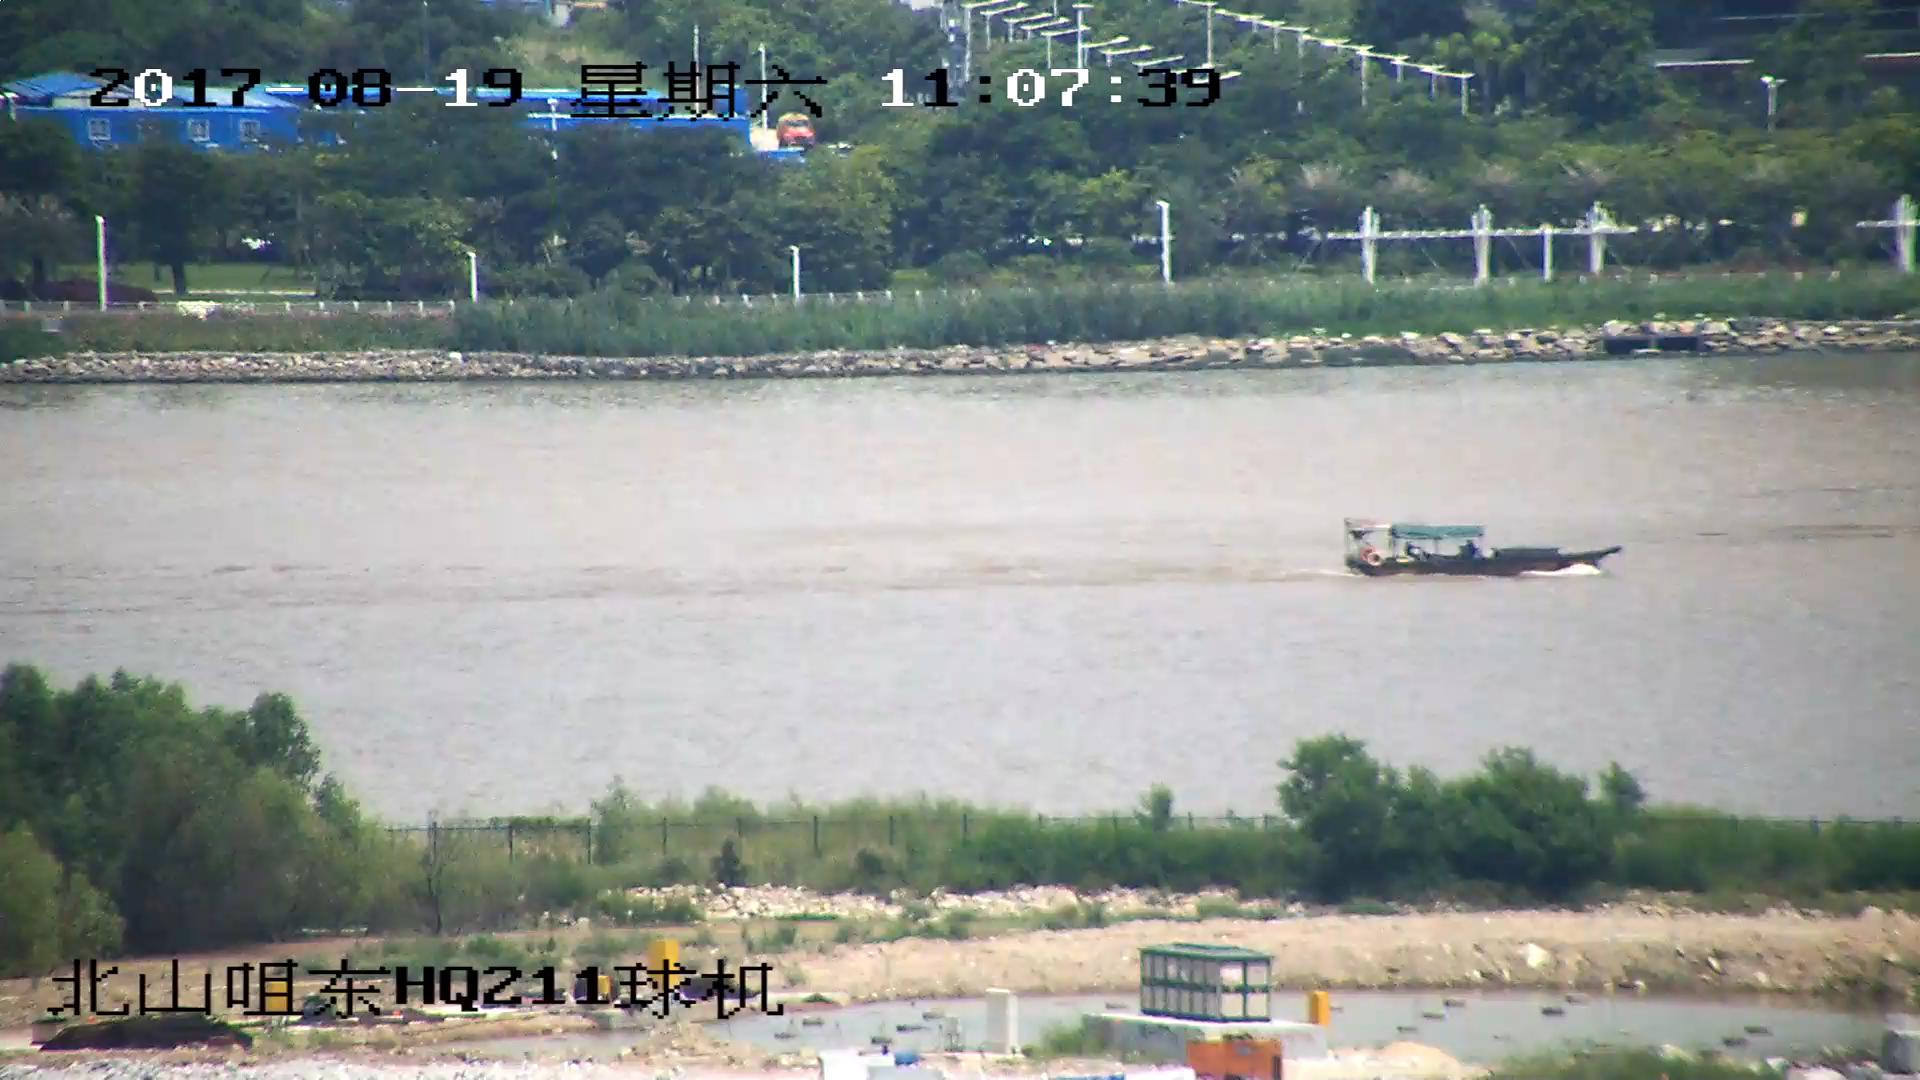fishing boat: (1342, 517, 1623, 580)
